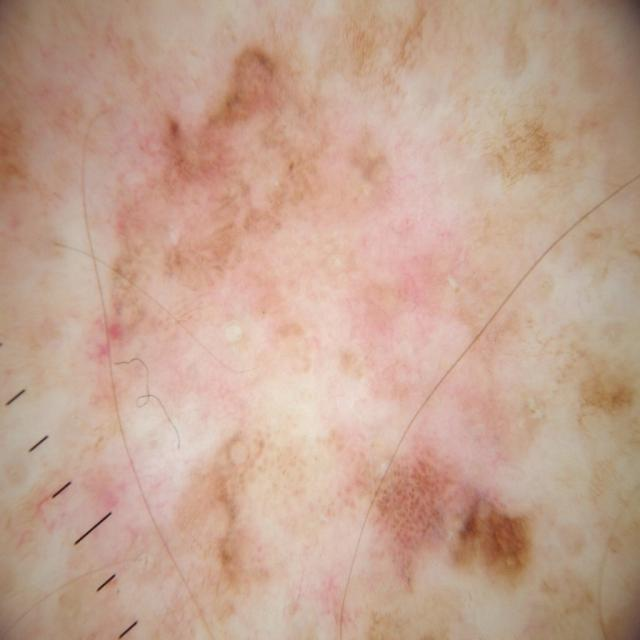Skin-Cancer Melanoma: (15, 28, 638, 640)
